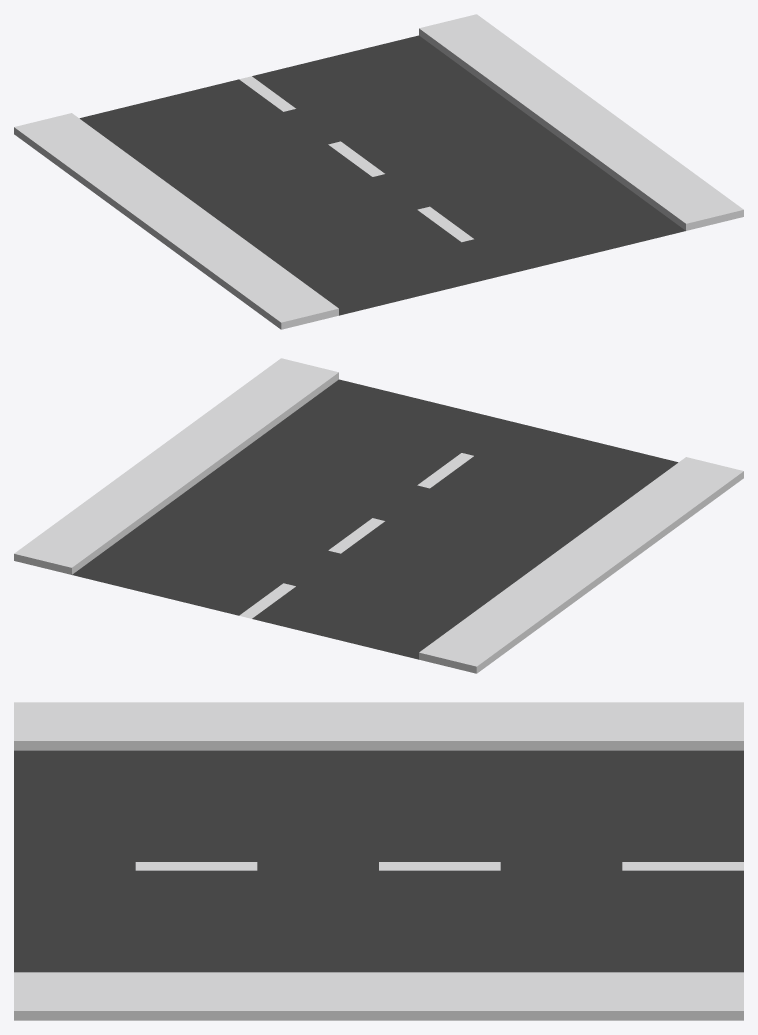
The model's file is two-lane-linear-road-piece.fbx.
The picture shows the model from 3 angles, top to bottom: view 1: azimuth 30°, elevation 25°; view 2: azimuth 150°, elevation 25°; view 3: azimuth 270°, elevation 25°; orthographic projection. The views are drawn at different scales.
Parts seen in each view (by area): view 1: two-lane-linear-road-piece; view 2: two-lane-linear-road-piece; view 3: two-lane-linear-road-piece.
Part boxes in pixels (x1,y1,x2,y2): two-lane-linear-road-piece: [14, 14, 743, 329]; two-lane-linear-road-piece: [14, 358, 743, 673]; two-lane-linear-road-piece: [14, 702, 743, 1020].
Size of the model in its own units: 11.2 by 0.165 by 11.2.
